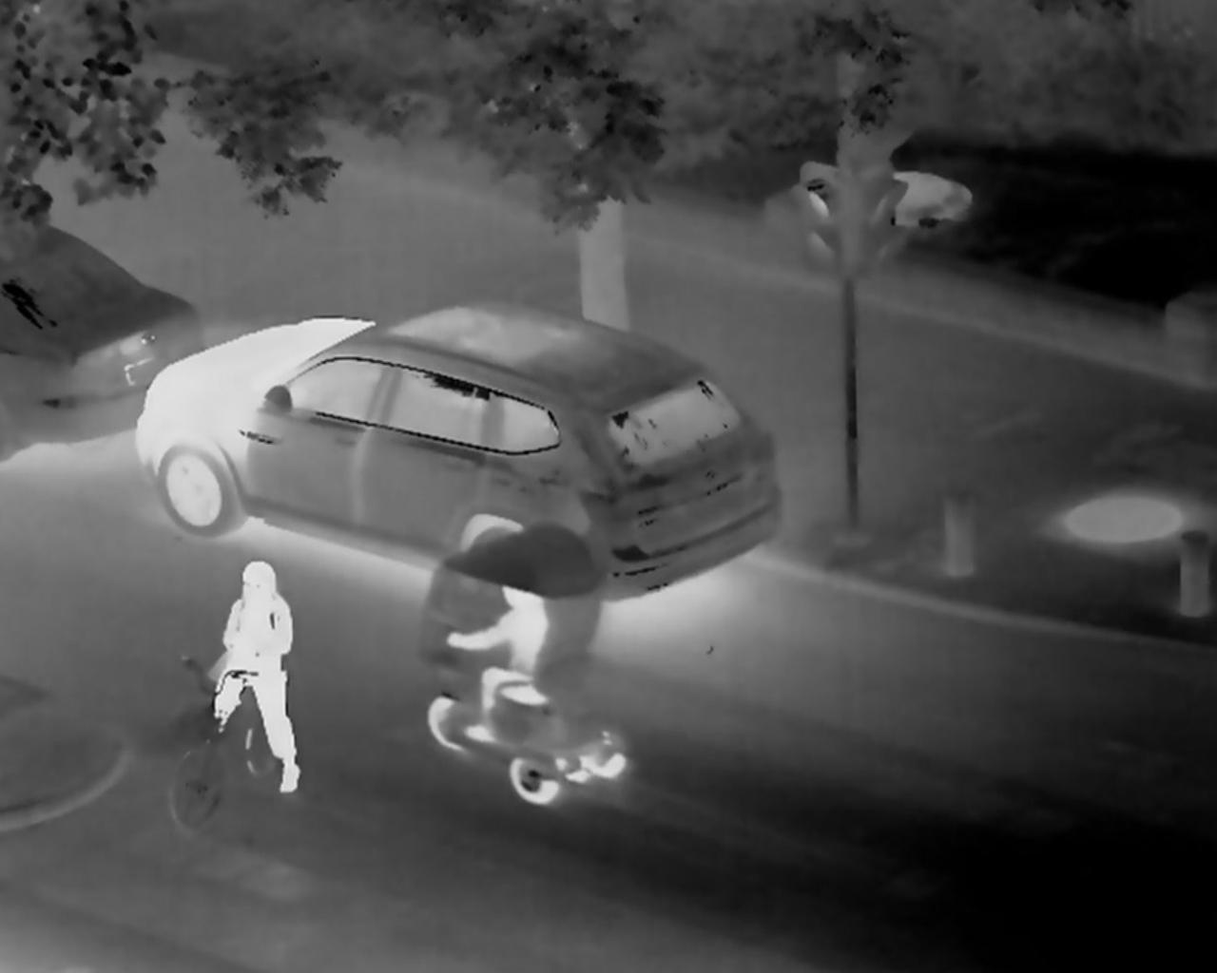person: (201, 551, 306, 792), (439, 564, 556, 744)
